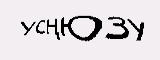З: (106, 13, 128, 42)
С: (34, 17, 46, 35)
У: (128, 12, 148, 44), (18, 19, 35, 38)
Ю: (60, 13, 101, 41)
Ң: (46, 15, 60, 41)
